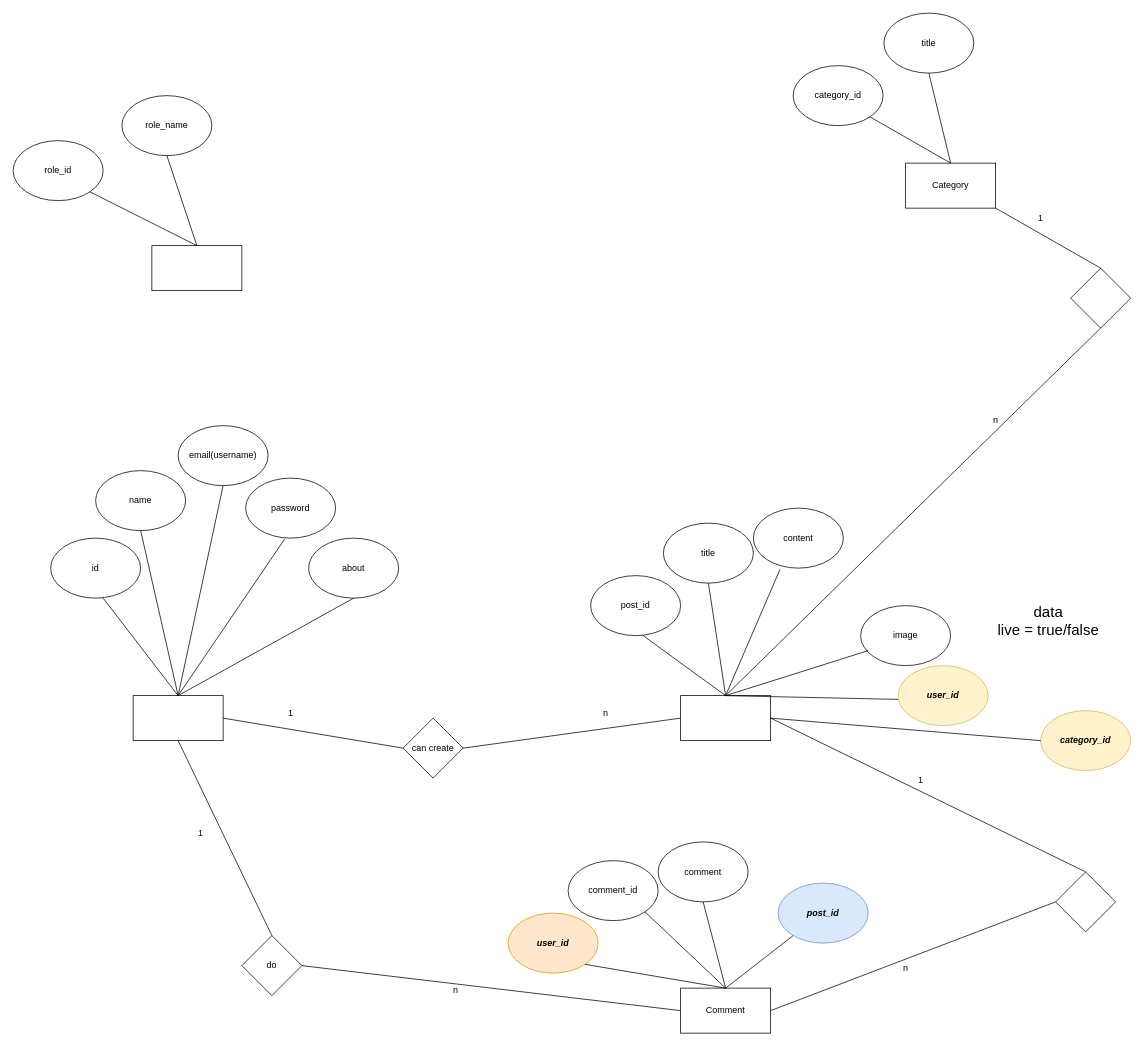
This 1144x1046 diagram has some shape labels left out. The centre of each missing label's shape, as x and y in pixels:
contains: (1100,297)
have: (1085,901)
Post: (725,718)
Role: (196,268)
User: (177,718)
